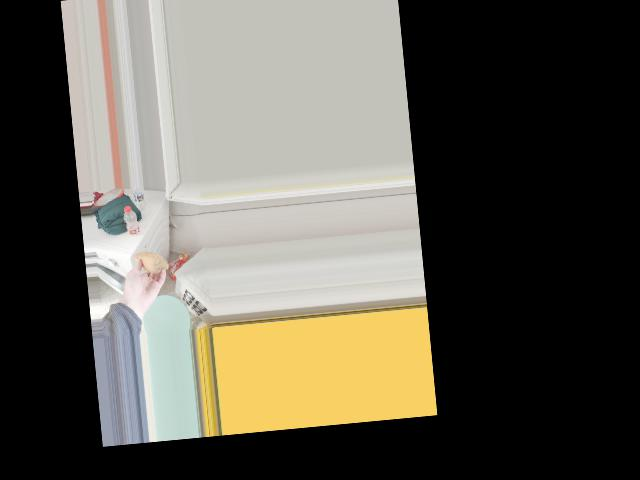sweet_potato: (134, 250, 165, 278)
